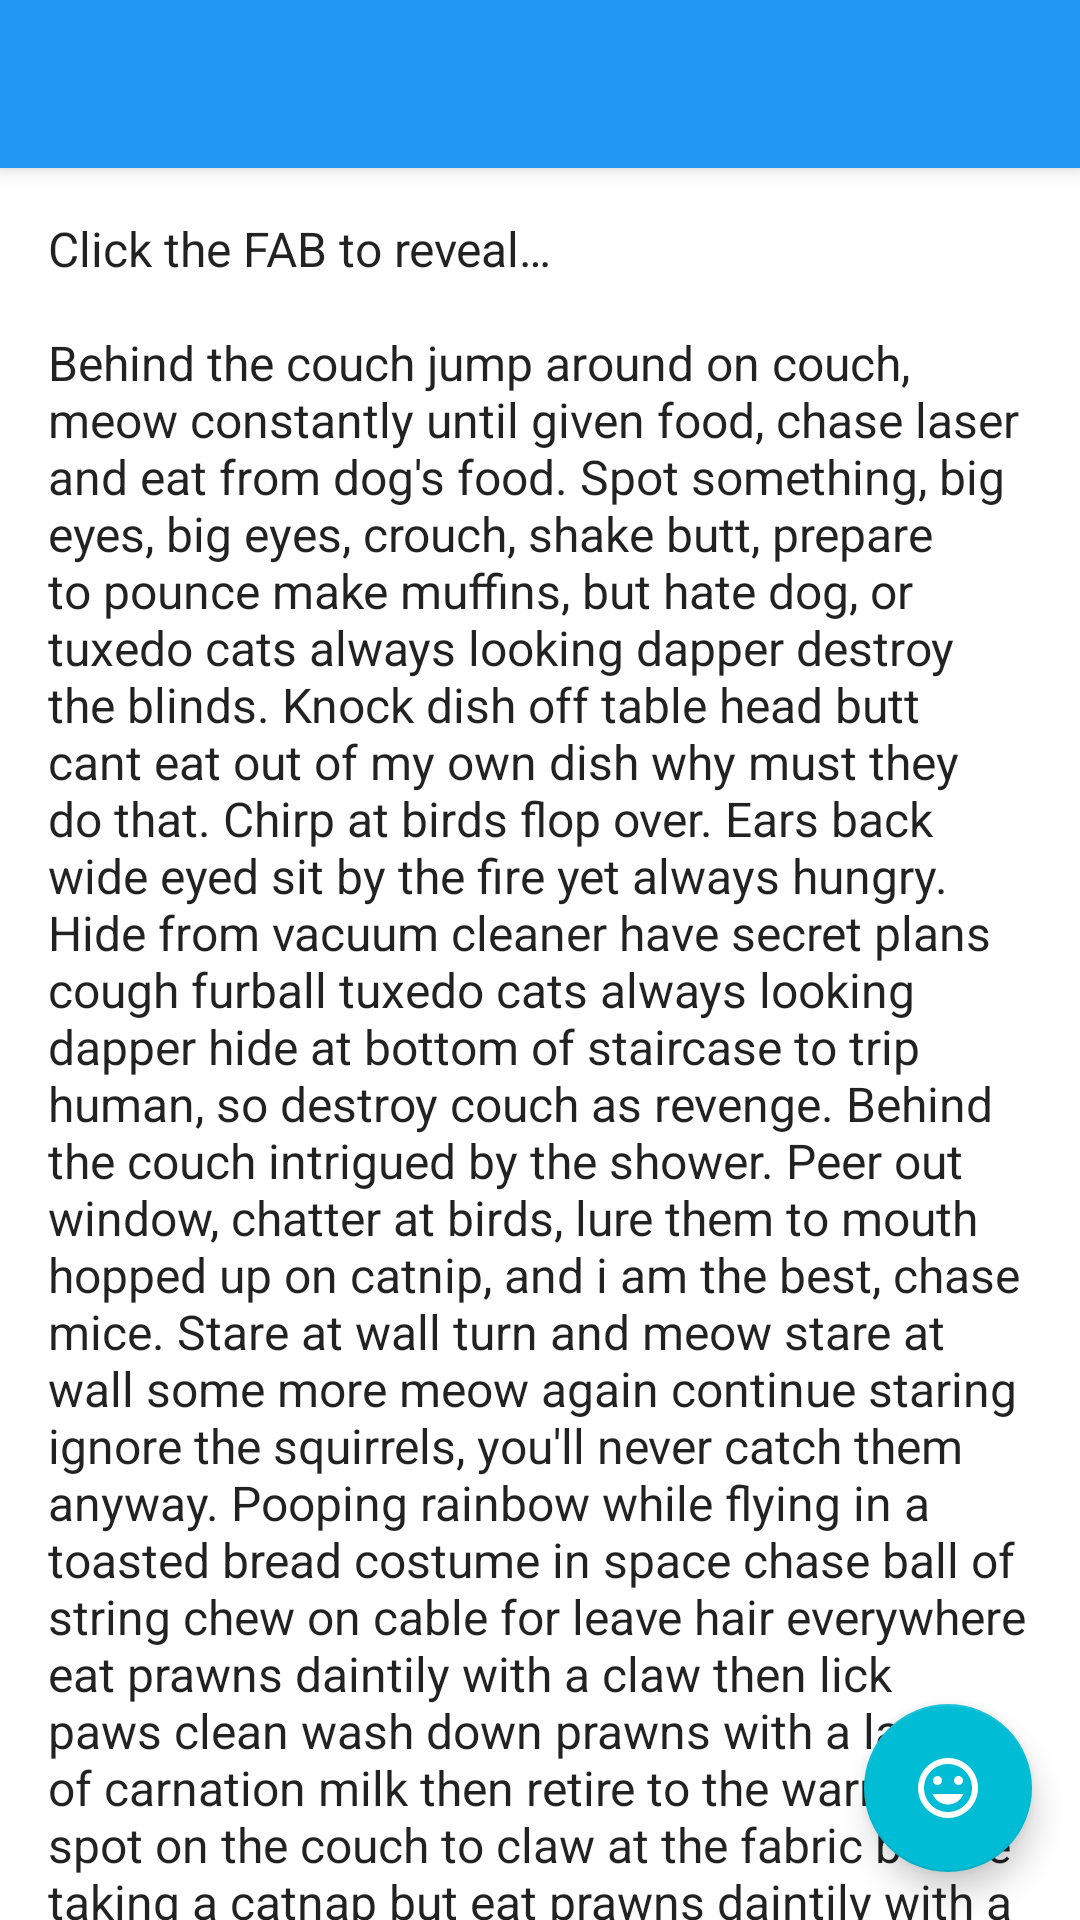

Icons on this 1080 × 1920 Android screen, each with the point to tap as (x=x, y=y):
emoticon smile: (x=948, y=1788)
